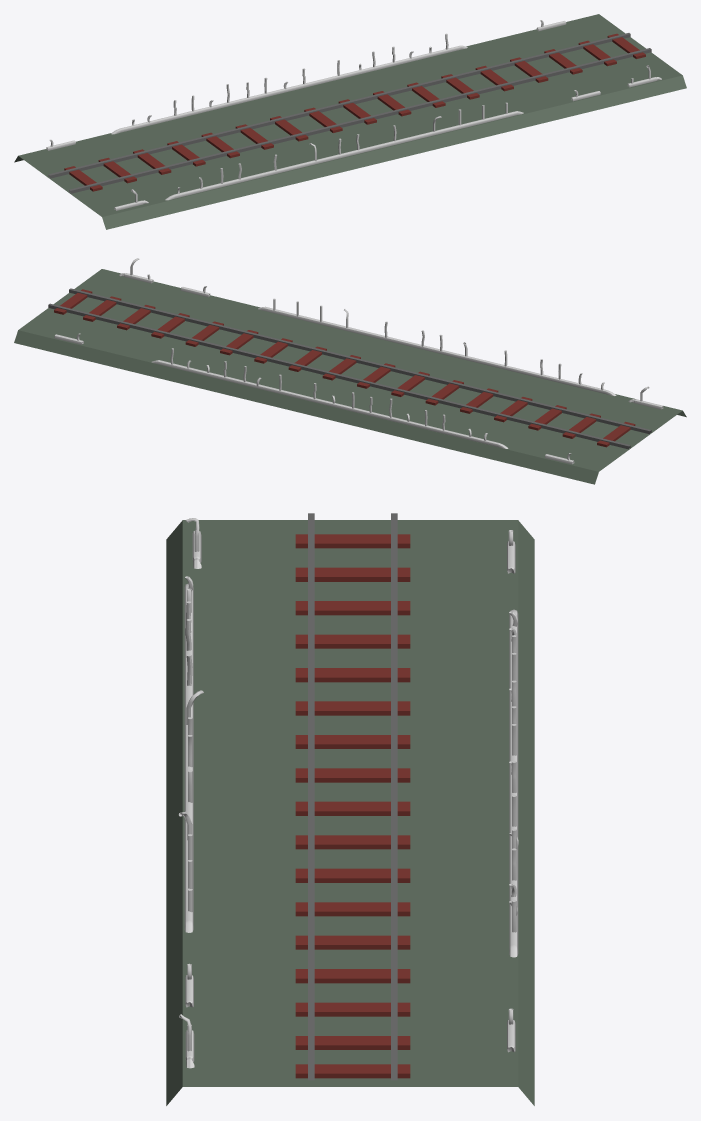
3 views of the same model, one above another, from view 1: azimuth 30°, elevation 25°; view 2: azimuth 150°, elevation 25°; view 3: azimuth 270°, elevation 25° (orthographic). The views are drawn at different scales.
Parts seen in each view (by area): view 1: pCube253; view 2: pCube253; view 3: pCube253.
Boxes of the visible parts, left/top/right/bottom form: pCube253: left=14, top=14, right=686, bottom=229; pCube253: left=14, top=258, right=686, bottom=484; pCube253: left=166, top=513, right=534, bottom=1105.
Size of the model in its own units: 200 by 10.18 by 54.93.
